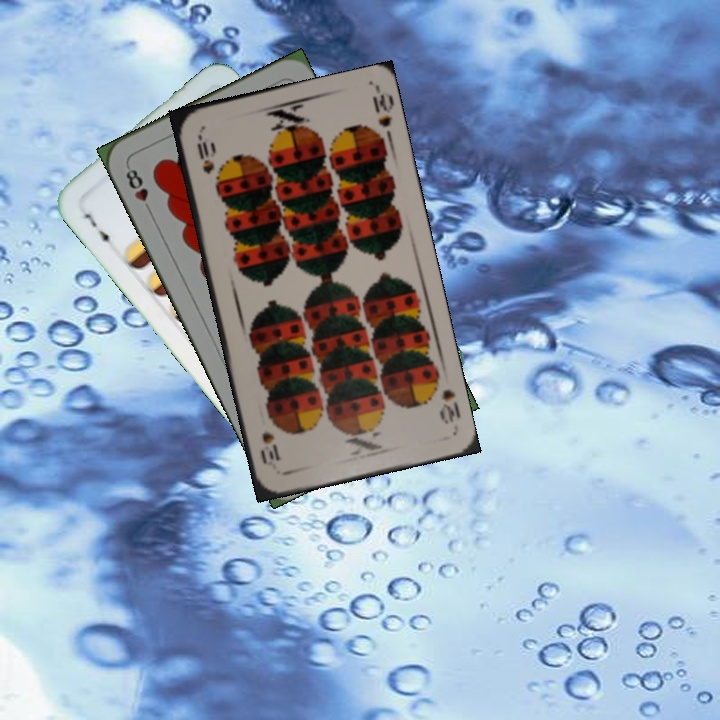E7: (80, 209, 115, 251)
H8: (121, 161, 155, 217)
S10: (435, 385, 463, 427), (193, 130, 217, 177)
